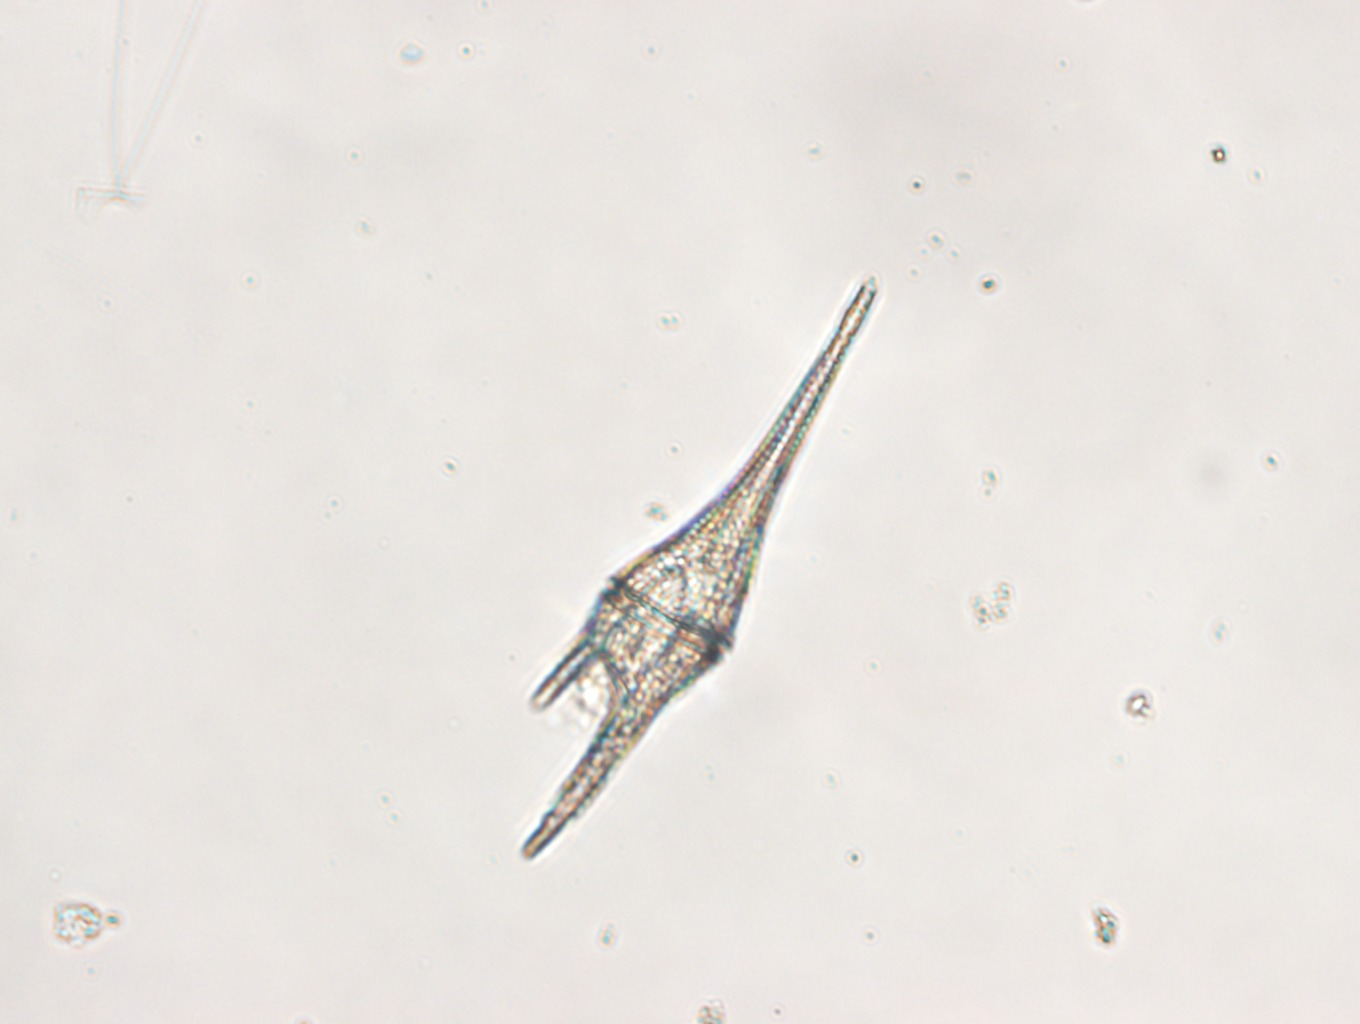ceratium furca: (517, 276, 878, 863)
